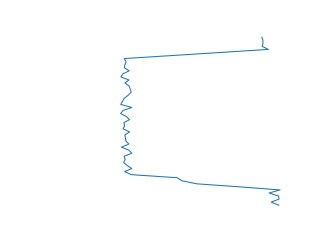distributaryChannelFill: (114, 35, 285, 209)
